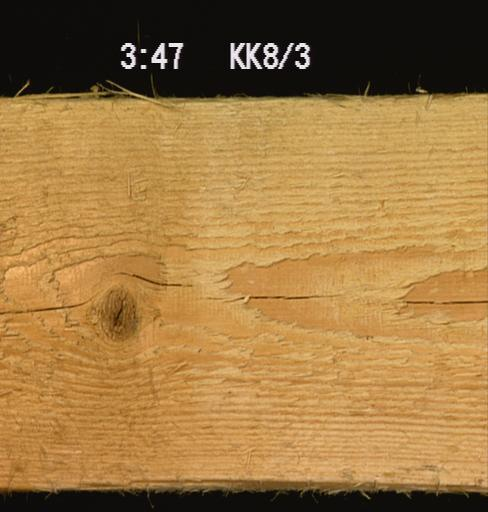sound_knot: (92, 286, 143, 345)
split: (0, 296, 91, 315), (112, 267, 194, 287), (200, 293, 343, 302), (403, 298, 487, 305)
wave: (56, 478, 487, 493)
